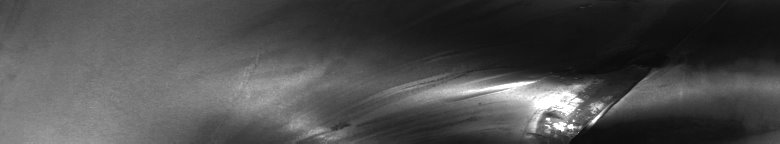ke: (285, 60, 744, 136)
